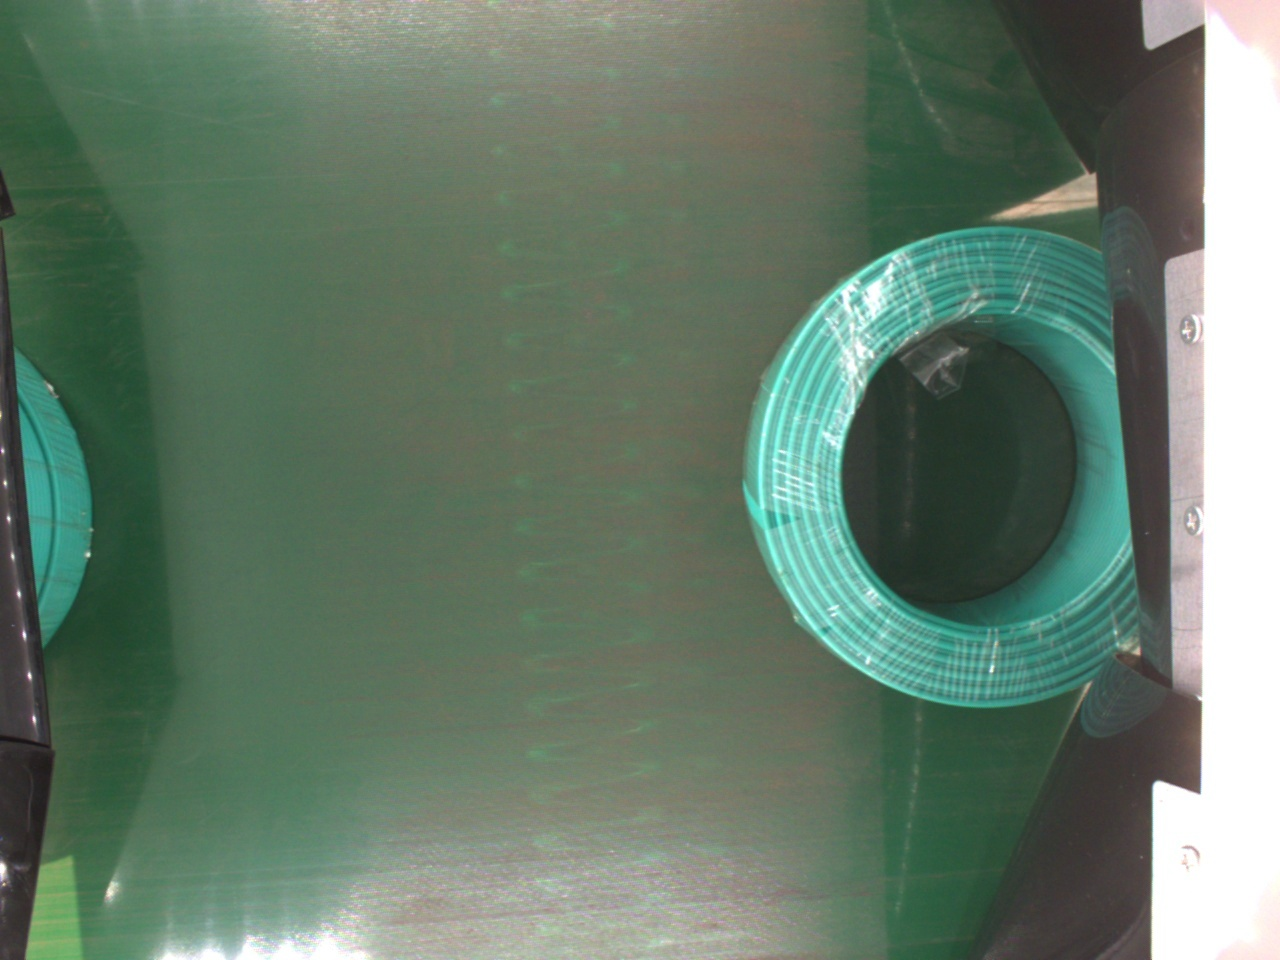green: (750, 221, 1146, 714)
